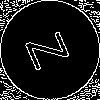Z: (25, 25, 79, 71)
